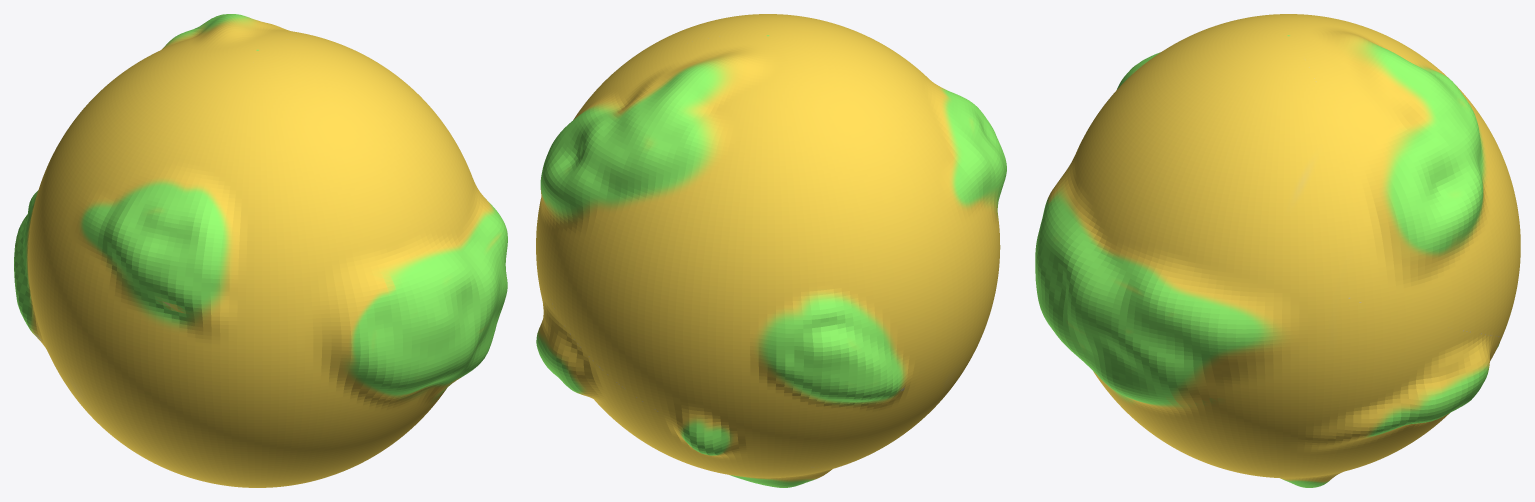
The model's file is Planeta Raro.fbx.
3 renders of one model, left to right at view 1: azimuth 30°, elevation 25°; view 2: azimuth 150°, elevation 25°; view 3: azimuth 270°, elevation 25°, orthographic.
Visible parts, largest first — view 1: Sphere; view 2: Sphere; view 3: Sphere.
Part boxes in pixels (x1,y1,x2,y2): Sphere: (14, 14, 507, 487); Sphere: (536, 14, 1006, 487); Sphere: (1035, 14, 1520, 487).
Size of the model in its own units: 30513 by 31023 by 31295.
